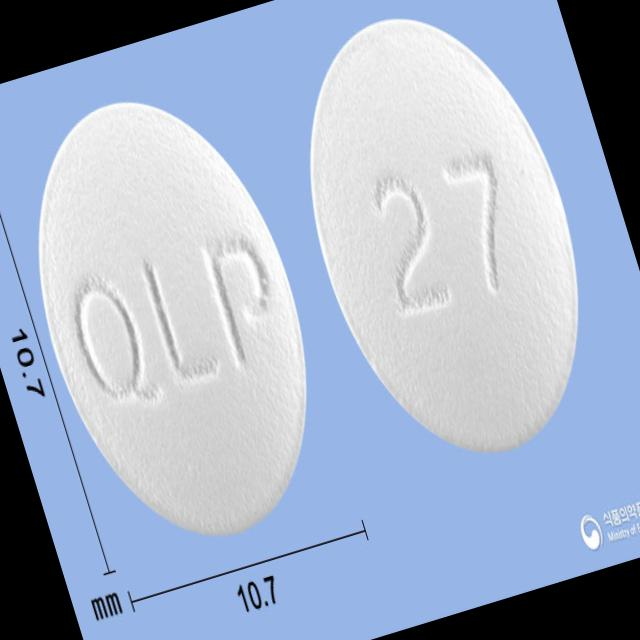Cyrus: (0, 62, 356, 569), (258, 0, 628, 485)
